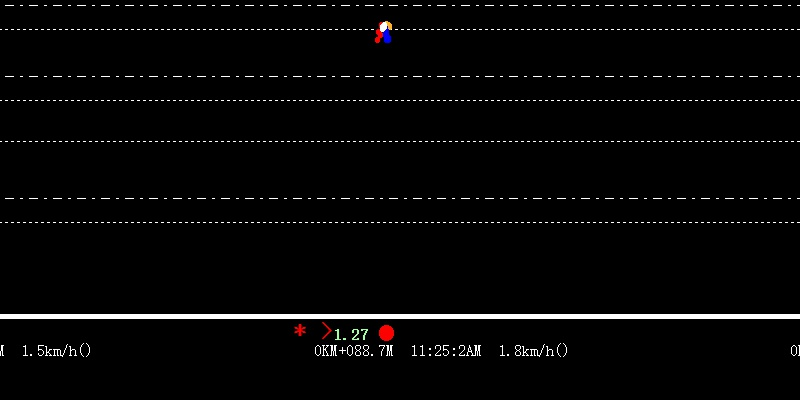circle: (378, 323, 394, 342)
face_2: (376, 20, 394, 45)
star: (291, 323, 306, 337)
